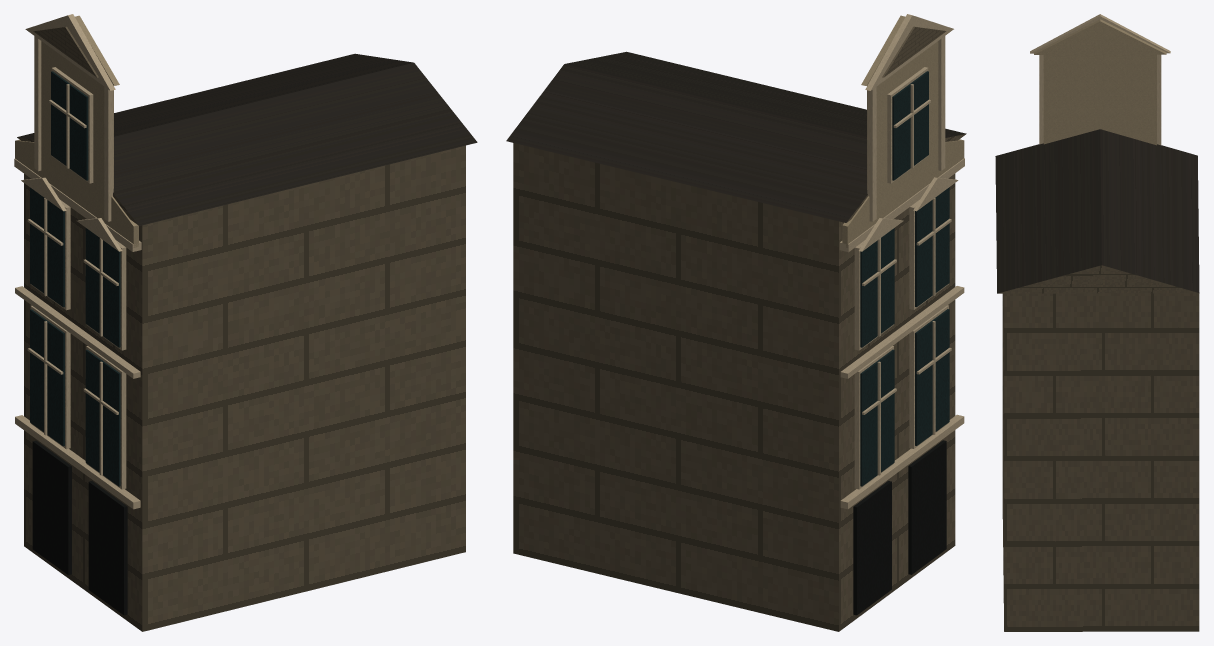
The picture shows the model from 3 angles, left to right: view 1: azimuth 30°, elevation 25°; view 2: azimuth 150°, elevation 25°; view 3: azimuth 270°, elevation 25°; orthographic projection. The views are drawn at different scales.
Parts seen in each view (by area): view 1: leuvehaven52-0, leuvehaven52-1, leuvehaven52-4, leuvehaven52-3, leuvehaven52-5, leuvehaven52-2; view 2: leuvehaven52-0, leuvehaven52-1, leuvehaven52-4, leuvehaven52-3, leuvehaven52-5, leuvehaven52-2; view 3: leuvehaven52-0, leuvehaven52-1, leuvehaven52-2, leuvehaven52-3.
Part boxes in pixels (box(x1,y1,x2,y2)): leuvehaven52-0: box(17, 26, 465, 631); leuvehaven52-1: box(17, 53, 477, 225); leuvehaven52-4: box(30, 71, 120, 486); leuvehaven52-3: box(14, 14, 141, 509); leuvehaven52-5: box(32, 440, 127, 615); leuvehaven52-2: box(15, 15, 138, 247); leuvehaven52-0: box(513, 26, 965, 631); leuvehaven52-1: box(506, 51, 966, 222); leuvehaven52-4: box(860, 71, 949, 486); leuvehaven52-3: box(839, 14, 964, 509); leuvehaven52-5: box(853, 440, 946, 615); leuvehaven52-2: box(842, 15, 964, 247); leuvehaven52-0: box(998, 265, 1199, 631); leuvehaven52-1: box(995, 129, 1199, 293); leuvehaven52-2: box(1033, 19, 1166, 145); leuvehaven52-3: box(1030, 14, 1170, 145).
Bounding box in the file's own units: 11.89 × 18.7 × 7.2.
6 materials, 6 textured.
